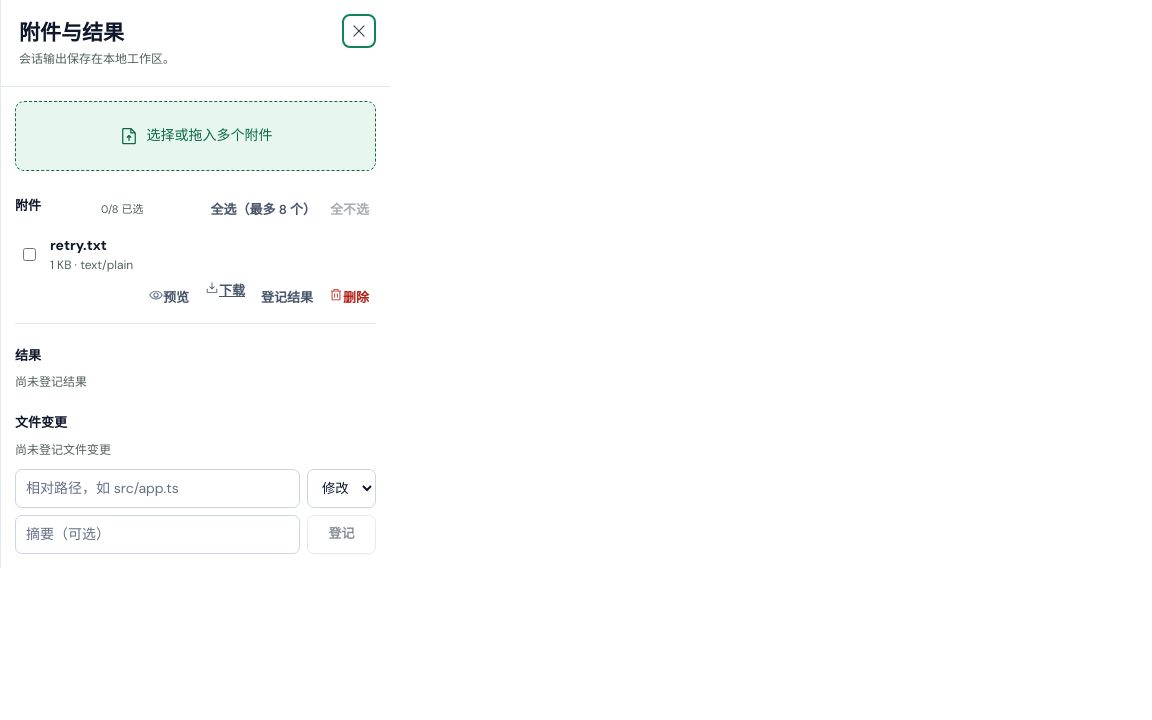
SessionOutputsPanel › 预览失败后可原地重试并保持安全焦点
Click the button "预览" at (169,298), box [142,280,196,314]
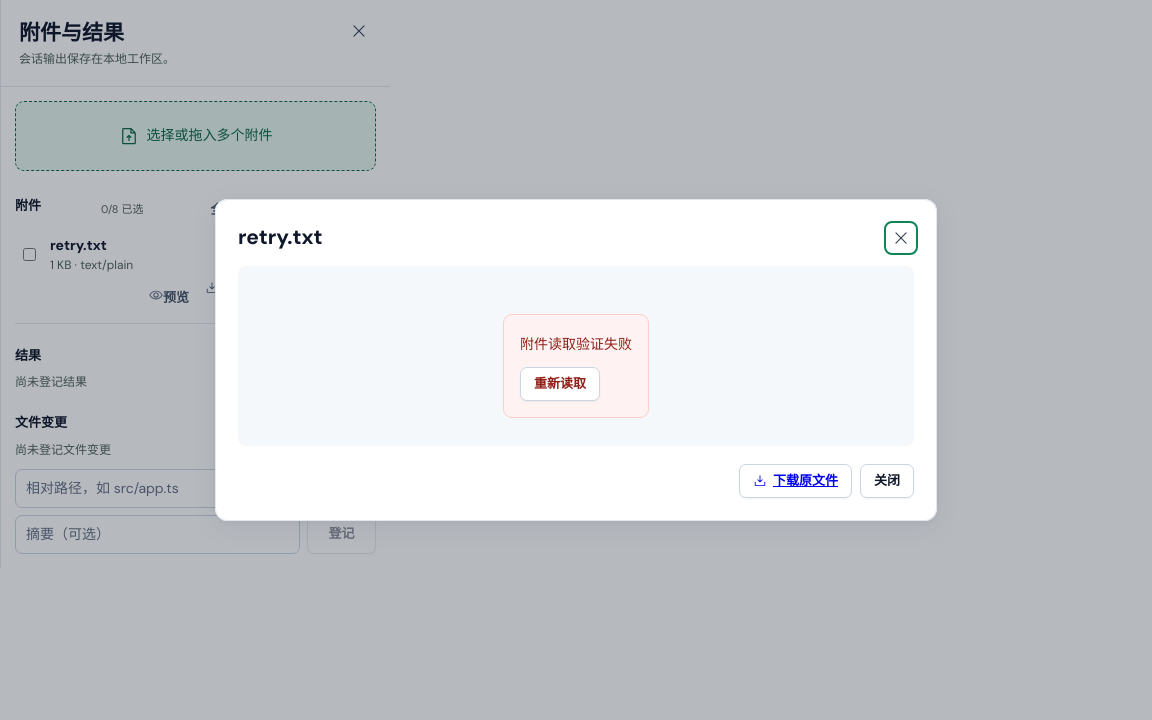
Now the message "附件读取验证失败 重新读取" is shown, box [503,314,649,418]
Click the button "重新读取" at (560,384), box [520,367,600,401]
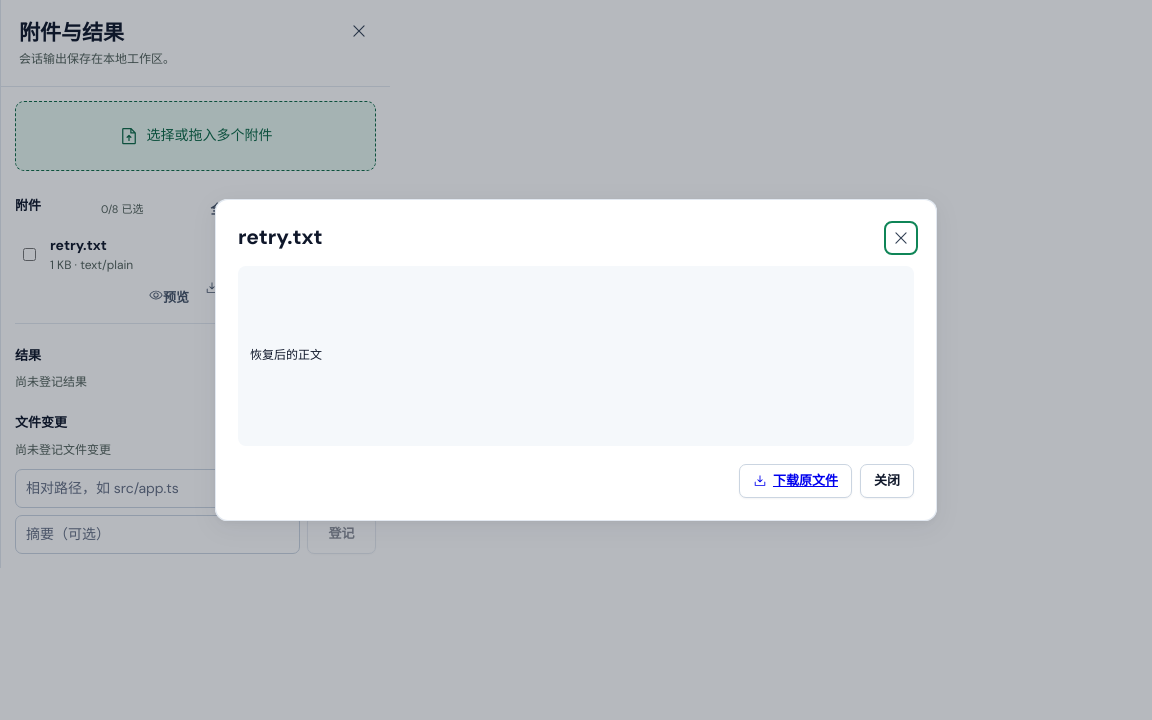
Now the text "恢复后的正文" is shown, box [250,348,322,362]
